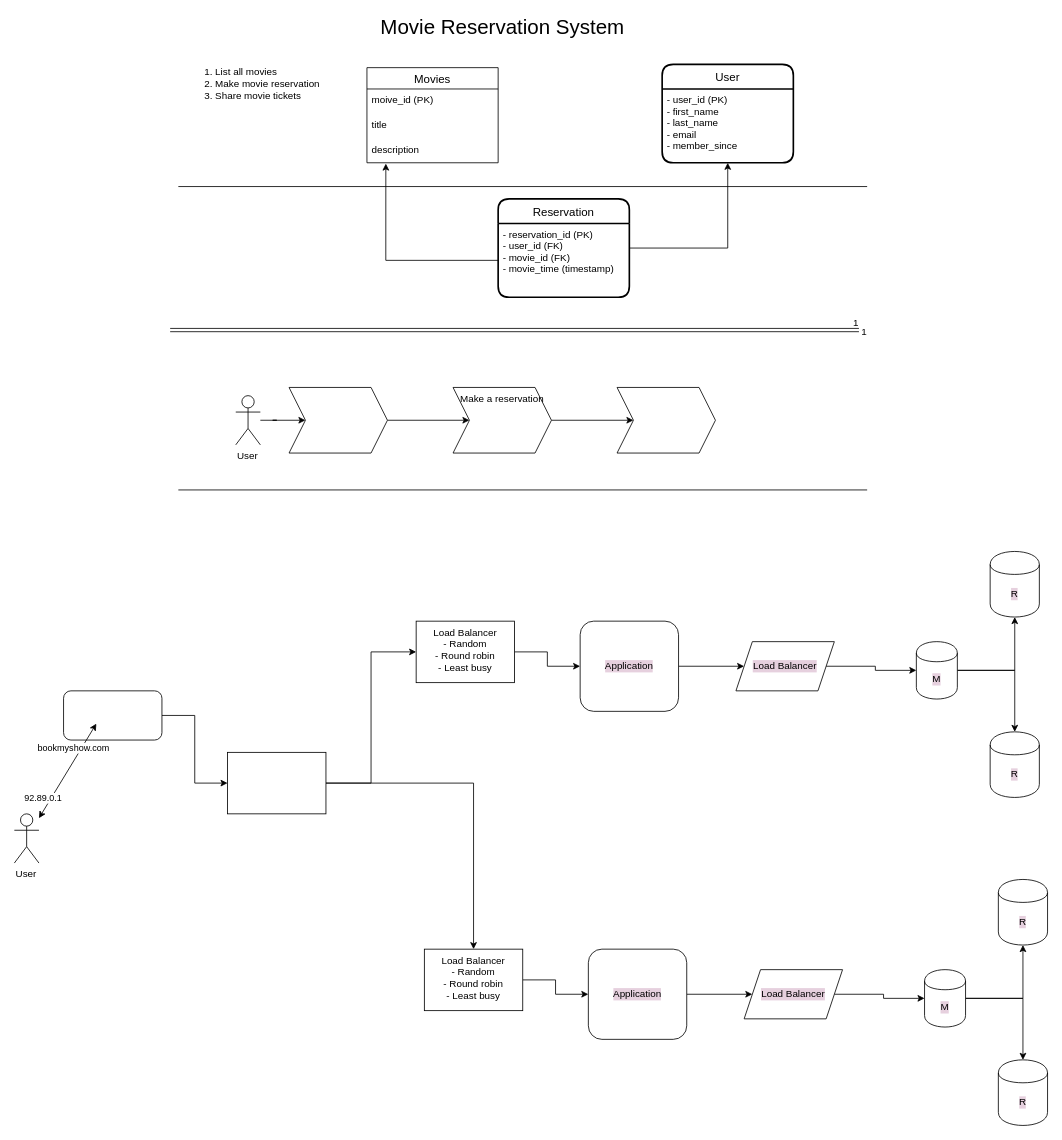
The diagram is 1062 pixels wide and 1140 high, and some of its shapes have lost their labels. The shapes that lost their labels are listed below. From the top down, each one's centre as x and y in pixels, then its label:
At (337,420): "Search Movies".
At (665,420): "Notified of the movie time via email".
At (112,715): "DNS".
At (276,783): "Gateway".
